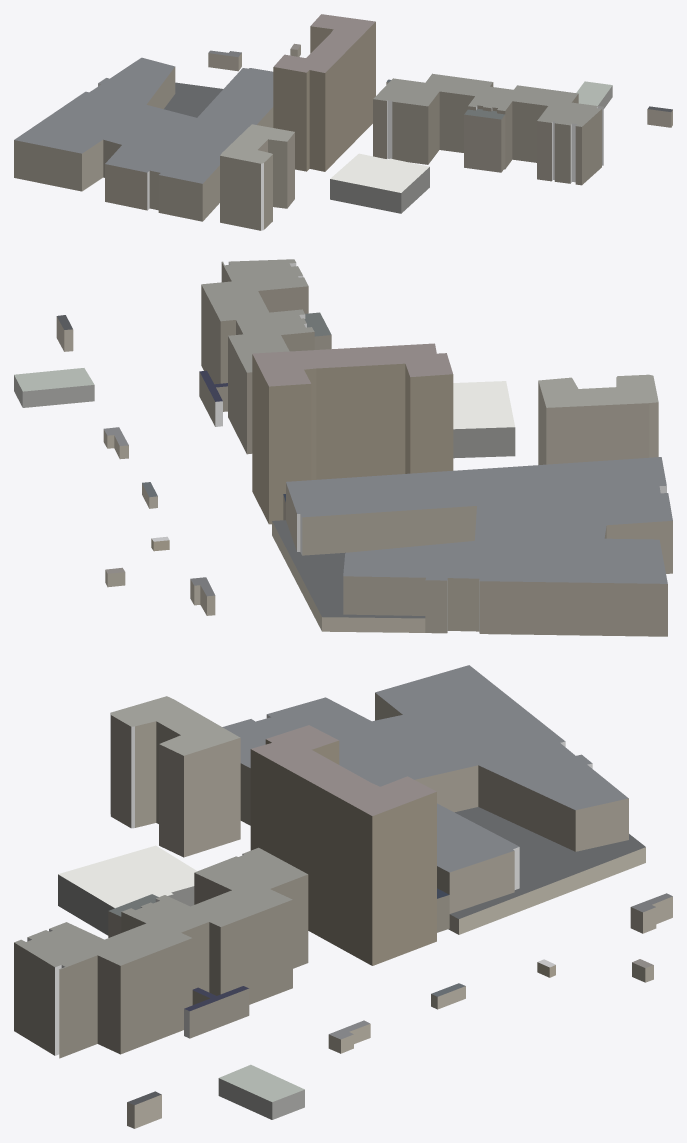
3 renders of one model, top to bottom at view 1: azimuth 30°, elevation 25°; view 2: azimuth 150°, elevation 25°; view 3: azimuth 270°, elevation 25°, orthographic. The views are drawn at different scales.
Visible parts, largest first — view 1: tuile; view 2: tuile; view 3: tuile.
Boxes of the visible parts, x1,y1,x2,y2 form: tuile: (14, 14, 672, 230); tuile: (14, 259, 672, 636); tuile: (14, 665, 672, 1128).
Bounding box in the file's own units: 307 × 54.64 × 210.
